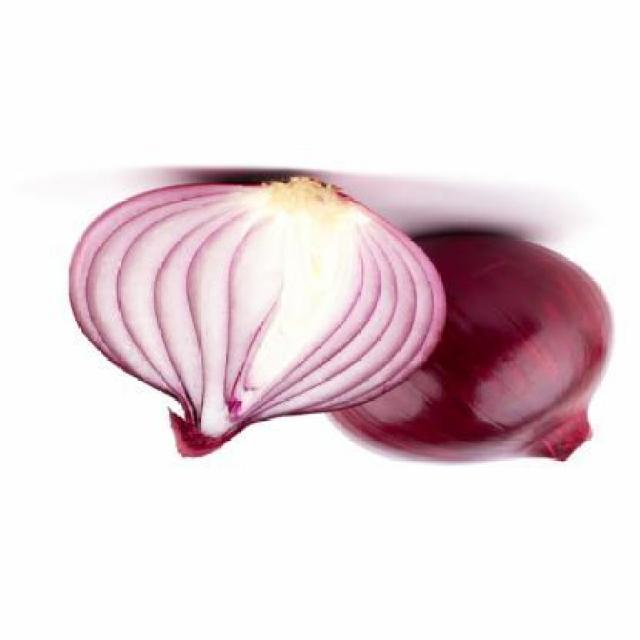onion: (70, 161, 446, 442), (330, 239, 610, 461)
